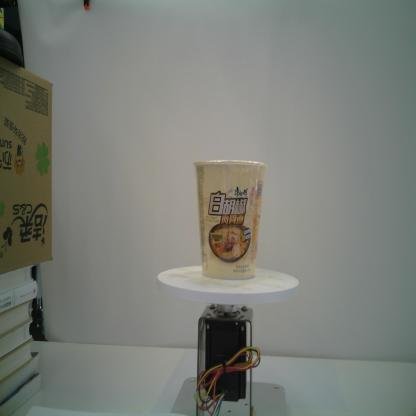Instant Noodles: (191, 158, 269, 283)
